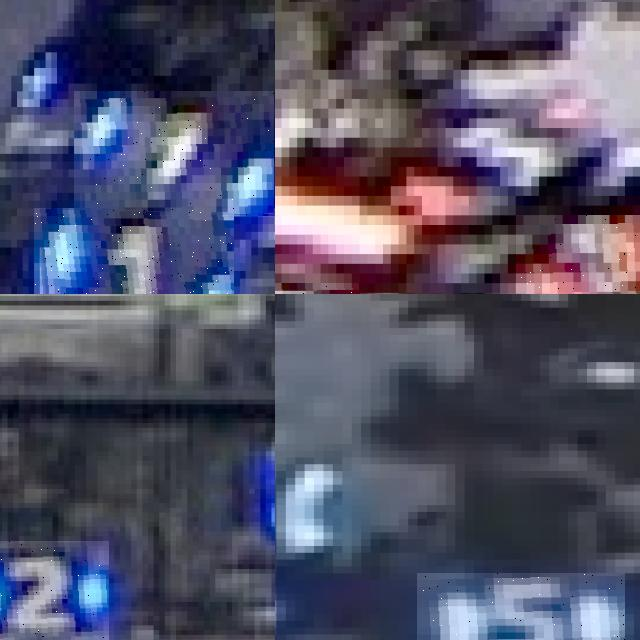B1: (74, 91, 274, 217), (34, 208, 234, 294)
B2: (0, 540, 108, 640)
B5: (417, 573, 624, 640)
R3: (515, 215, 640, 294)
